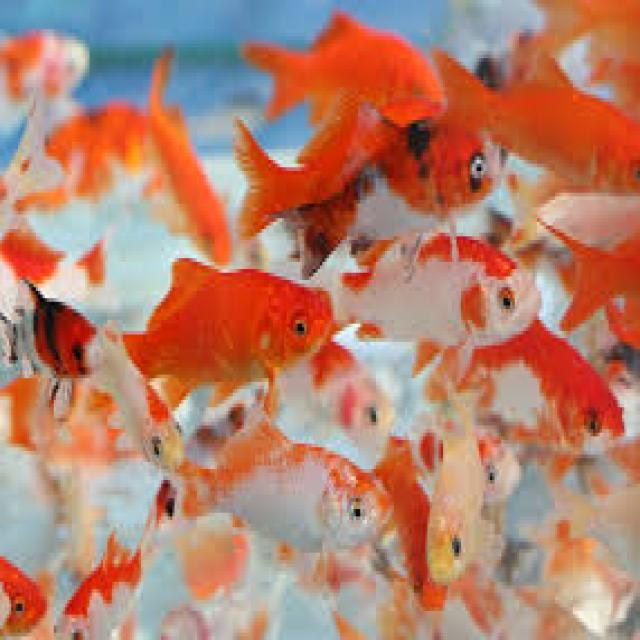goldfish: (118, 263, 342, 408), (170, 428, 396, 568), (352, 228, 552, 362)
